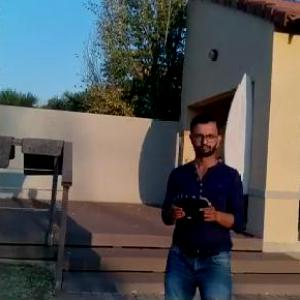follow: (155, 108, 249, 299)
